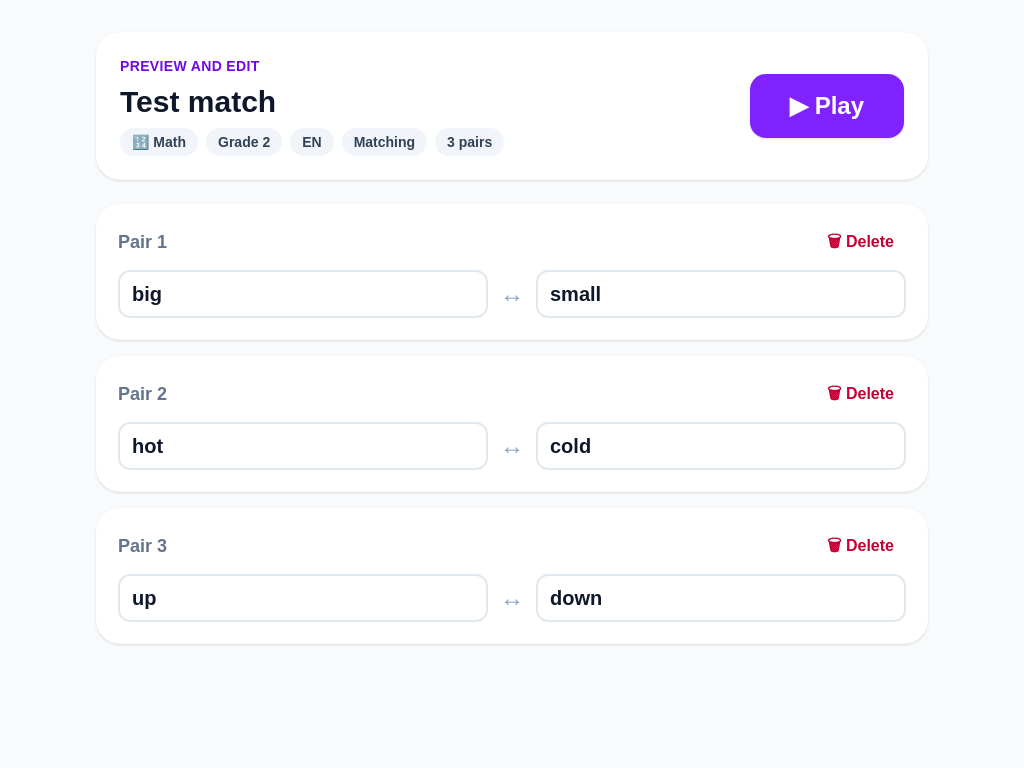
Test: GamePreview › flags a duplicate matching card on the pair that causes it
Clear the field named "Pair 3 right card": (721, 598) [536,574,906,622]
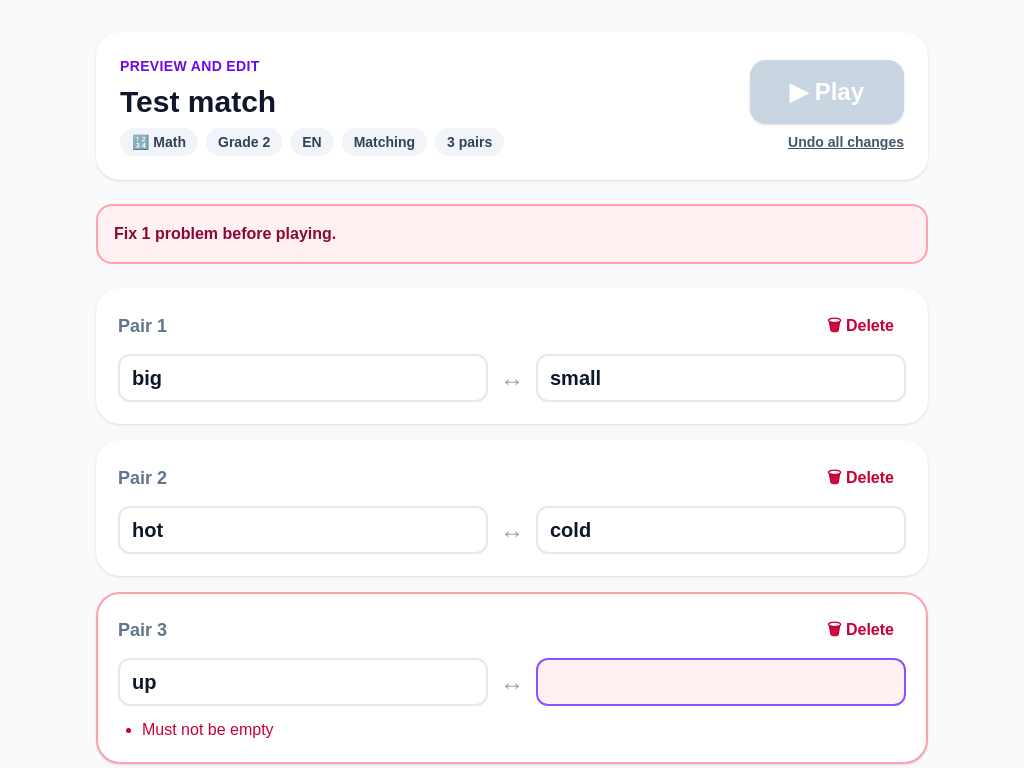
In the field named "Pair 3 right card": (721, 682) [536,658,906,706], type "cold"
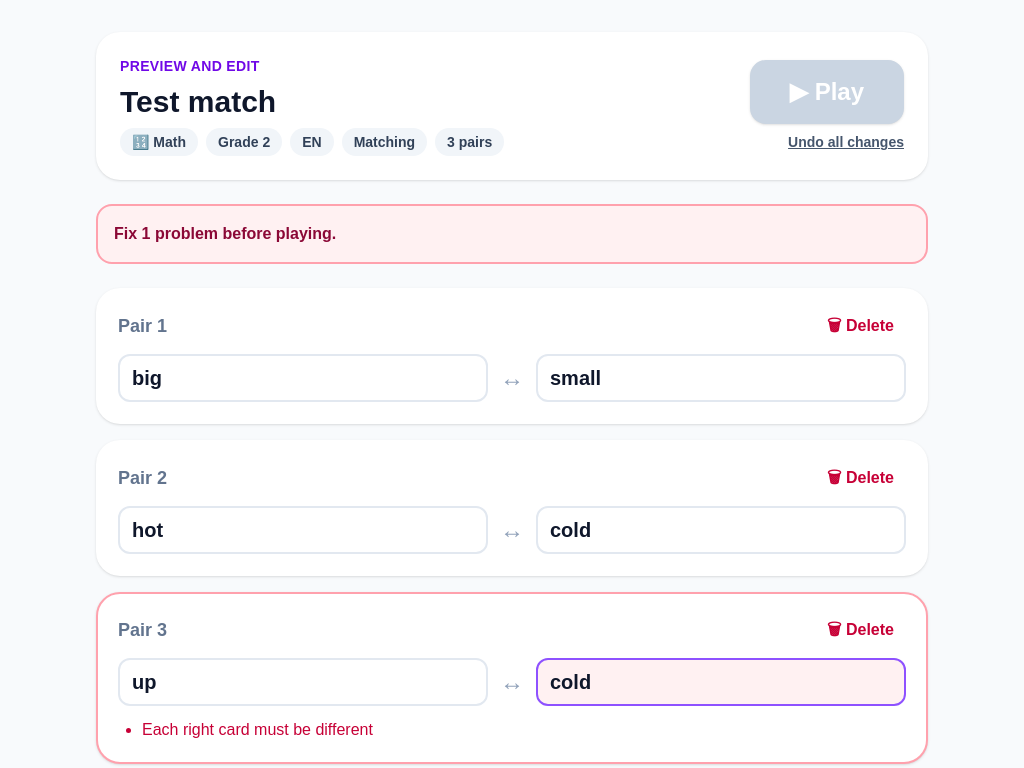
Now the list item "Each right card must be different" is shown, box [142,721,373,738]
